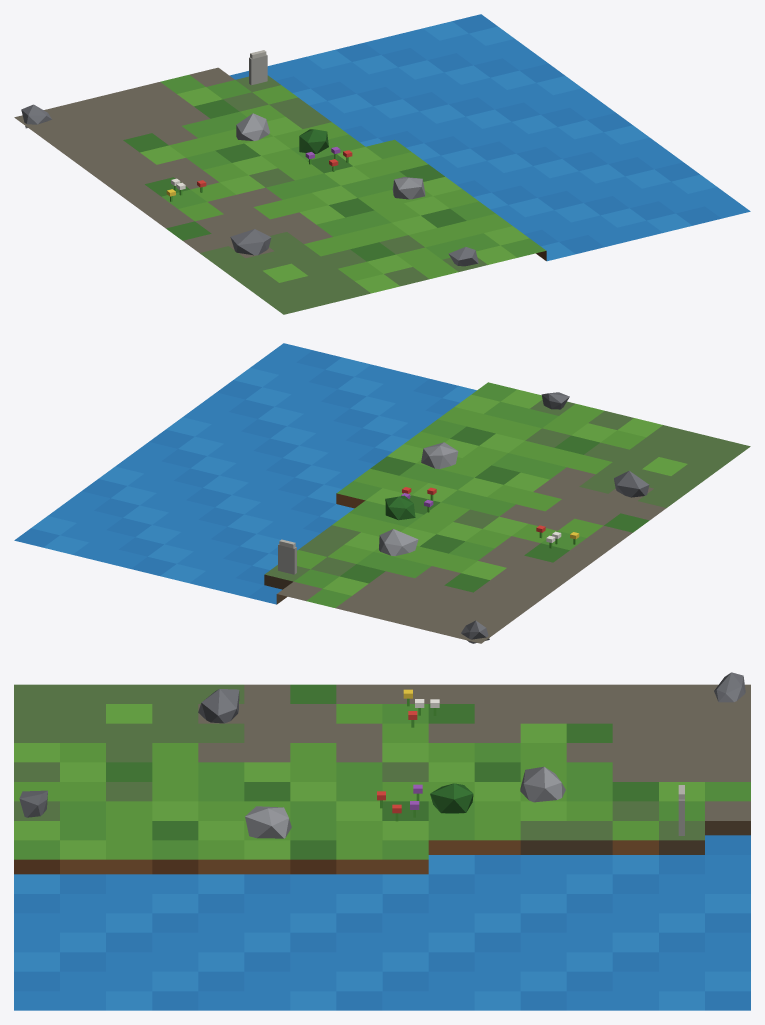
Rendered from chunk_3_21.glb.
3 renders of one model, top to bottom at view 1: azimuth 30°, elevation 25°; view 2: azimuth 150°, elevation 25°; view 3: azimuth 270°, elevation 25°, orthographic. The views are drawn at different scales.
Parts seen in each view (by area): view 1: chunk_3_21; view 2: chunk_3_21; view 3: chunk_3_21.
Boxes of the visible parts, x1,y1,x2,y2 form: chunk_3_21: (14, 14, 750, 314); chunk_3_21: (14, 343, 750, 643); chunk_3_21: (14, 672, 750, 1010).
Bounding box in the file's own units: 16 × 1.39 × 16.
